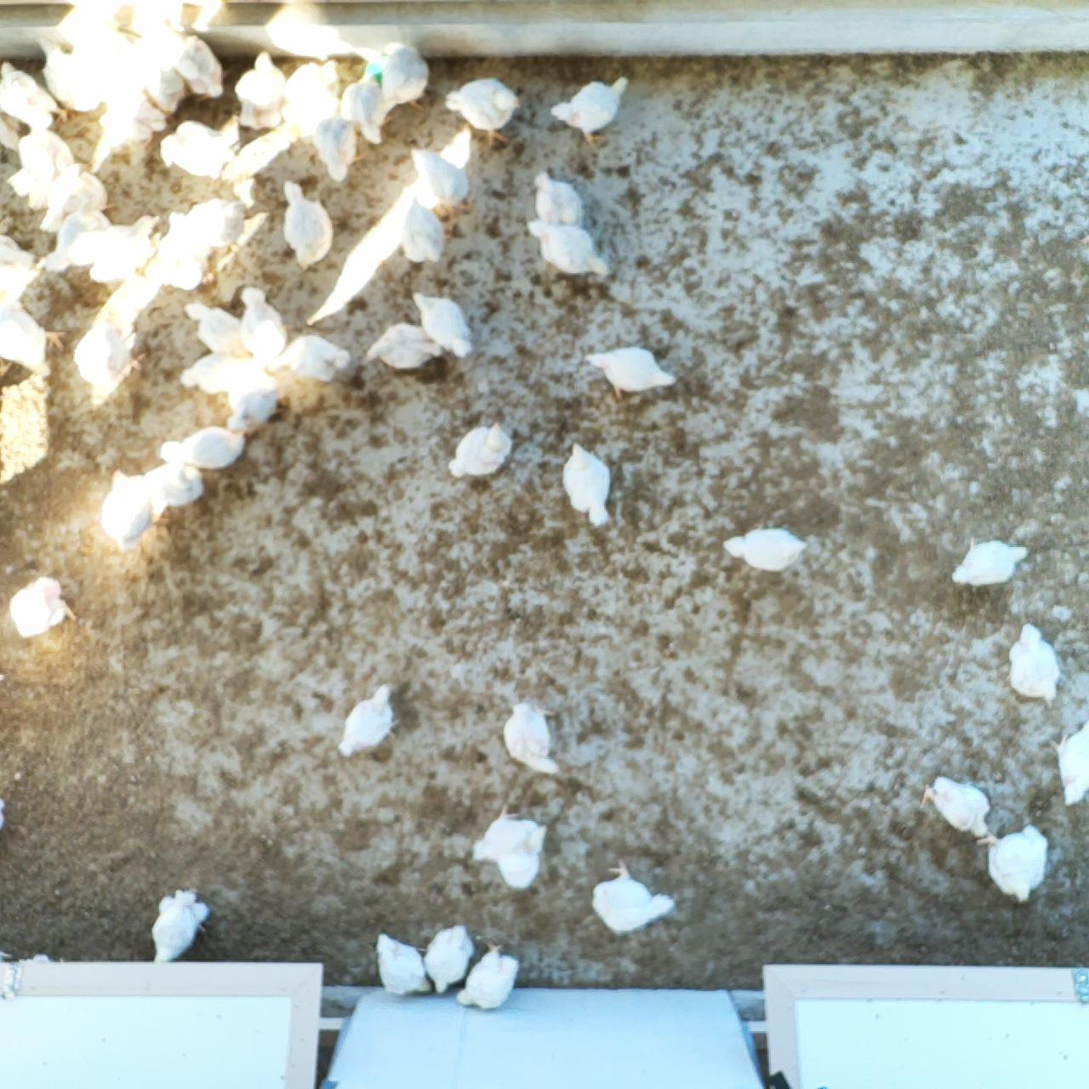chicken: (589, 858, 680, 937), (472, 804, 550, 891), (551, 75, 630, 153), (978, 822, 1051, 905), (86, 208, 160, 286), (281, 176, 338, 275), (580, 340, 677, 398), (523, 218, 609, 283), (155, 27, 226, 103), (445, 73, 519, 145), (72, 316, 144, 389), (37, 163, 111, 234), (407, 289, 478, 362), (35, 40, 103, 116), (335, 679, 398, 761), (1006, 619, 1064, 708), (150, 882, 211, 966), (453, 941, 524, 1013), (720, 519, 808, 576), (147, 212, 207, 295), (0, 59, 71, 128), (558, 441, 613, 530), (97, 469, 156, 551), (45, 208, 112, 280), (159, 120, 236, 182), (921, 775, 994, 840), (501, 700, 562, 777), (10, 571, 78, 639), (282, 57, 341, 135), (950, 534, 1031, 590), (16, 128, 73, 207), (364, 319, 446, 373), (158, 423, 246, 473), (376, 931, 435, 1003), (0, 301, 65, 366), (447, 418, 515, 480), (234, 52, 288, 130), (179, 195, 249, 255), (408, 144, 475, 206), (181, 296, 250, 356), (235, 286, 286, 366), (131, 46, 191, 113), (100, 88, 166, 148), (424, 920, 475, 996), (529, 167, 588, 232), (380, 35, 431, 110), (269, 334, 350, 381), (139, 458, 208, 512), (222, 369, 283, 430), (342, 71, 392, 145), (313, 113, 360, 186), (401, 196, 448, 267), (1052, 717, 1089, 807), (180, 350, 254, 395), (0, 231, 41, 294)
